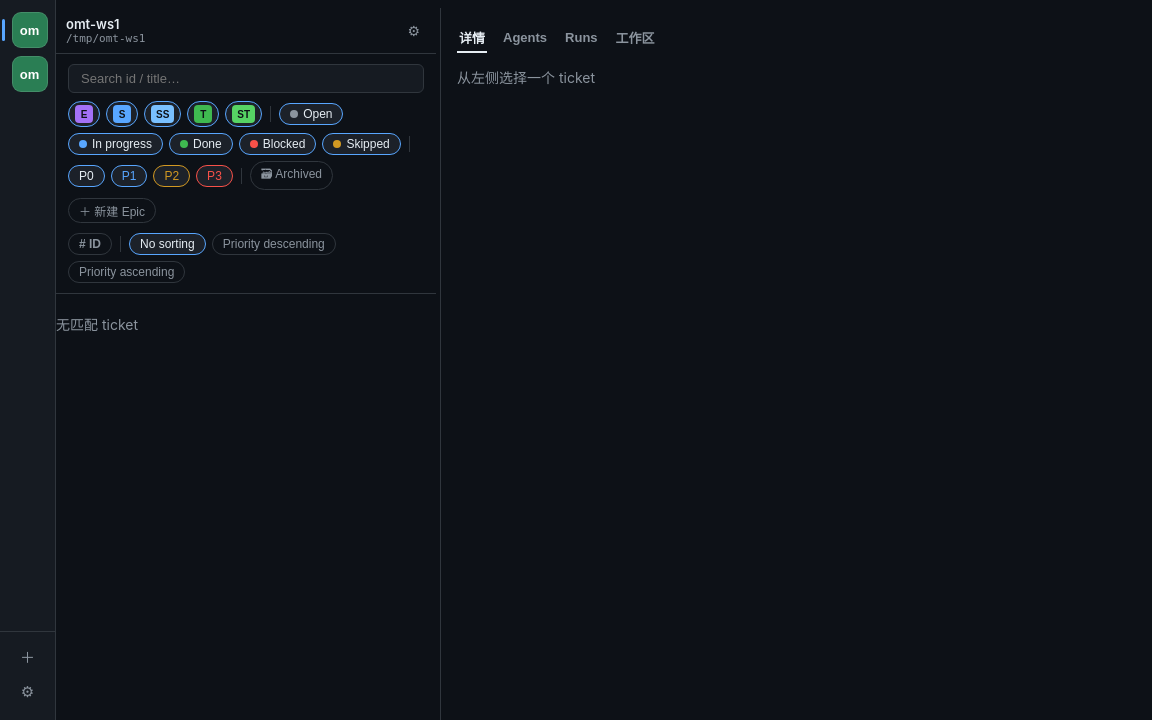
Test case: §49 lease-notice-switch-home：「前往 Runs」先切 home（App 级） › 通知跨 home 保留；按钮切回所属 home 并打开 Runs（旧实现只开当前 home 的 Runs）
Click the button "Agents" at (525, 38), box [501,24,549,53]
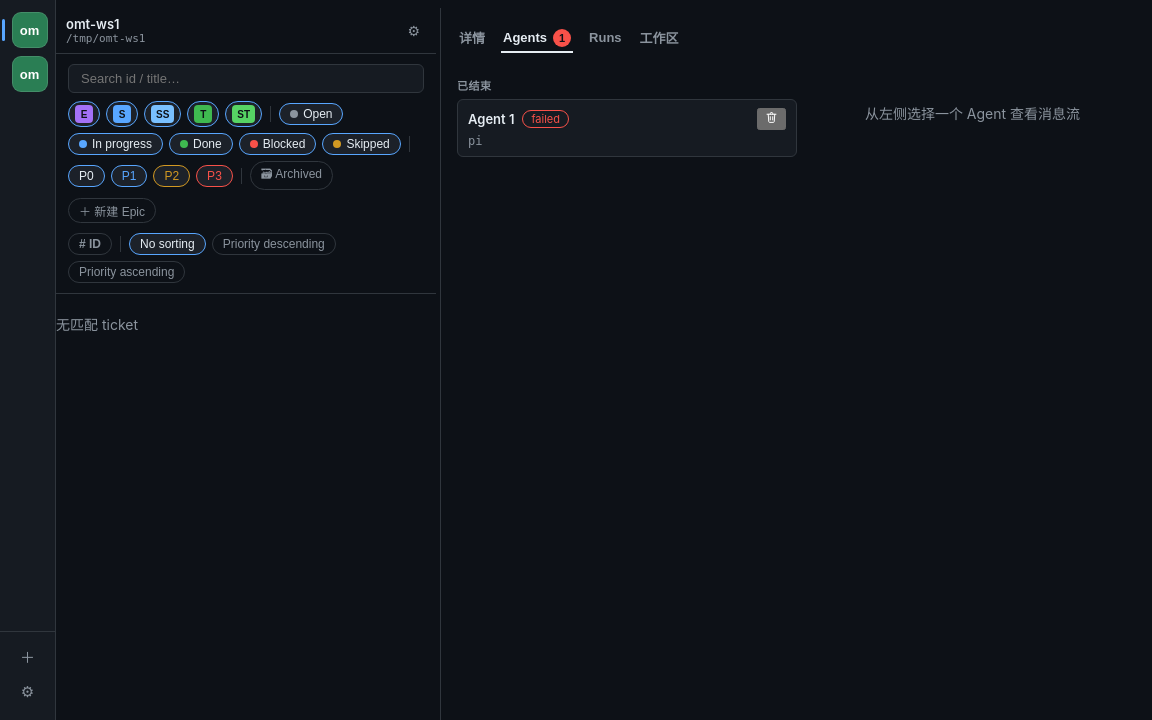
Click the button named "删除 Agent 1" at (772, 119), box [757,108,786,130]
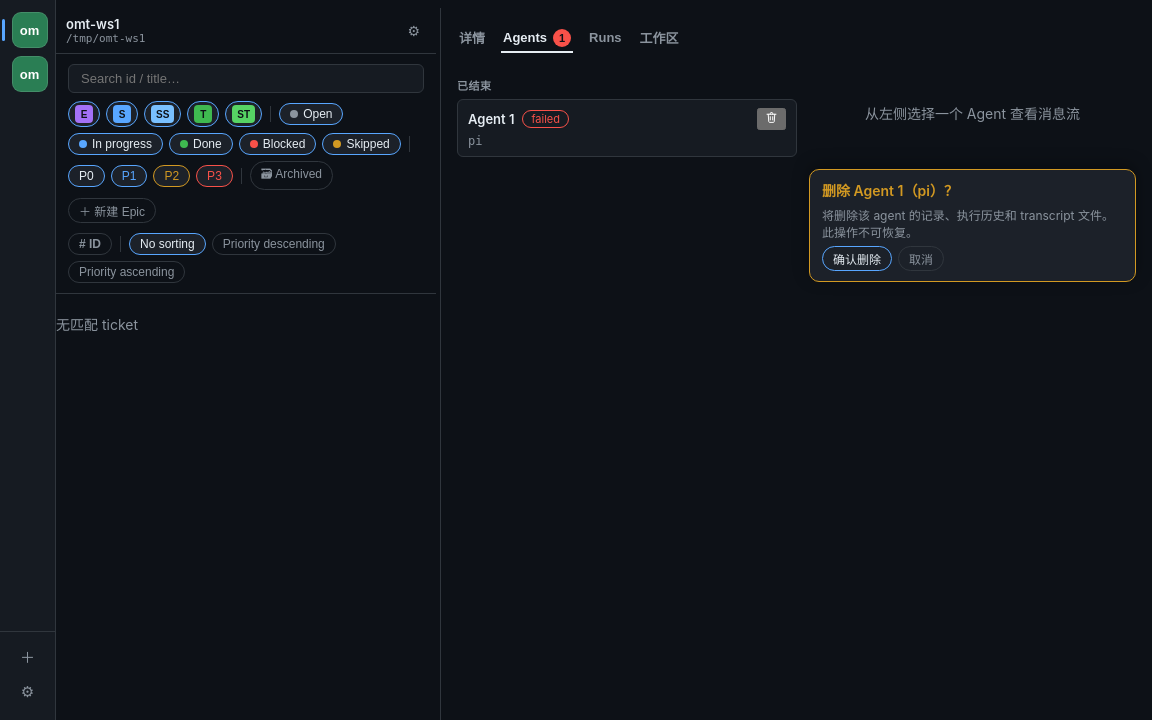
Click the button "确认删除" at (857, 258), box [822,246,892,271]
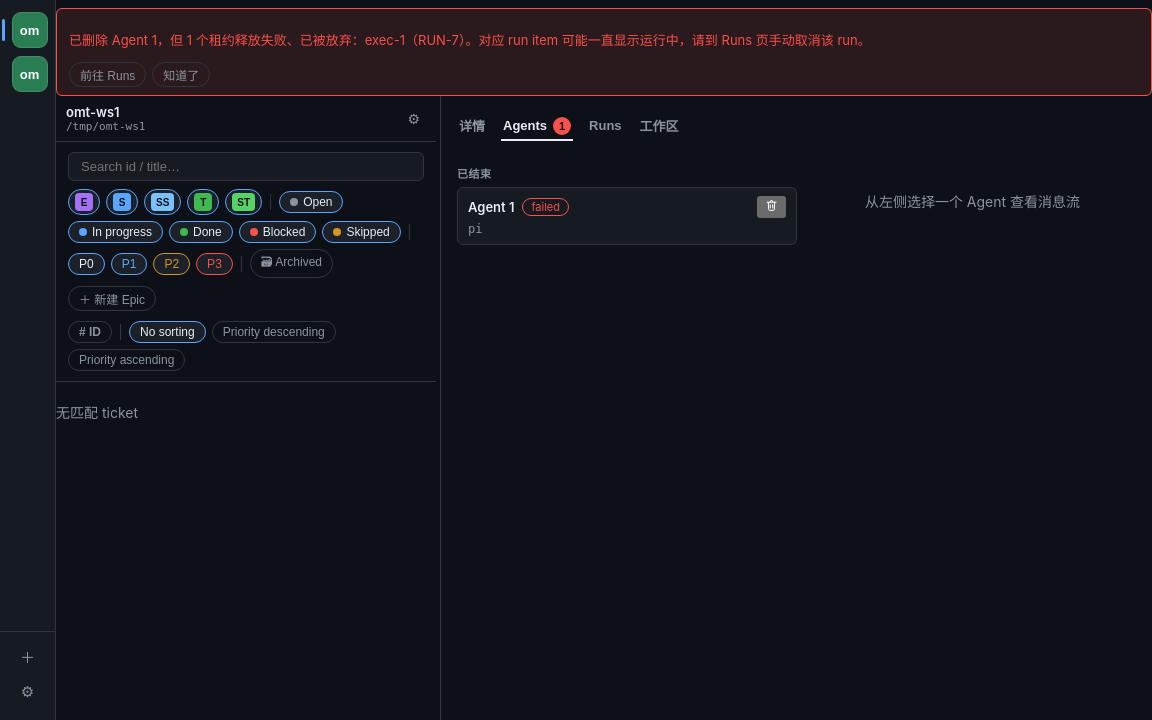
Result: the text "租约释放失败" is shown at [69,32,871,48]
Click the 2nd button titled "omt-ws2（/tmp）" at (30, 74), box [12,56,48,92]
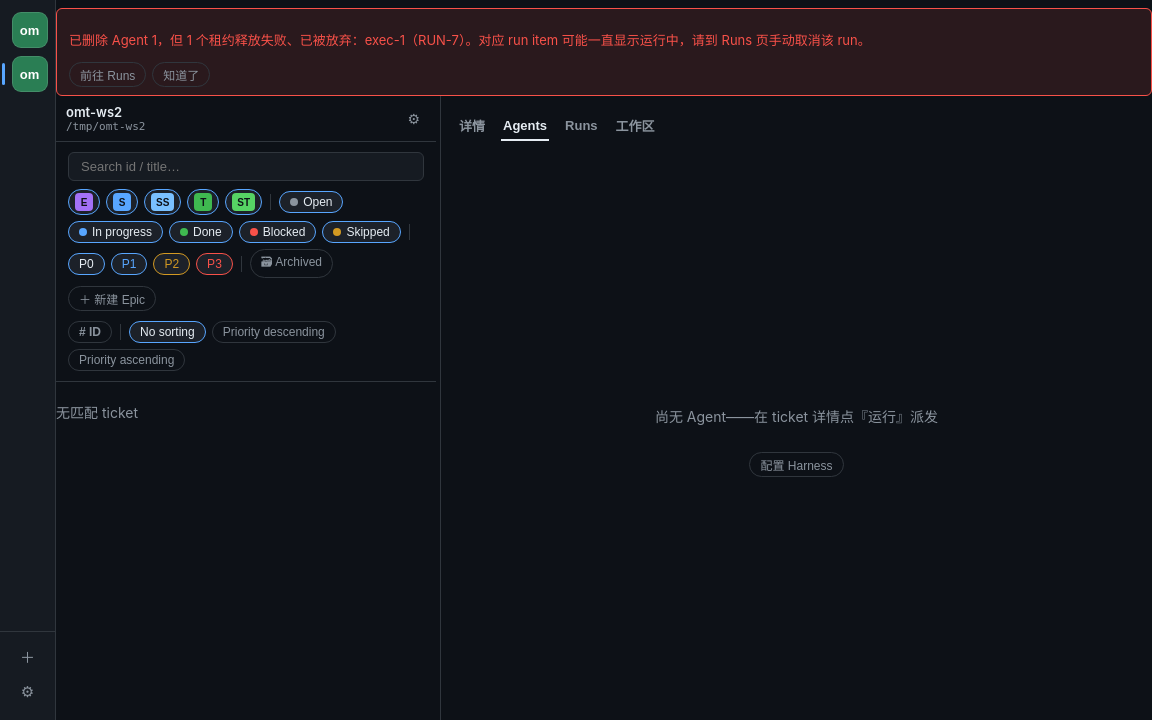
Result: the text "租约释放失败" is shown at [69,32,871,48]
Result: the text with class "workspace-name" reads "omt-ws2" at [66,104,122,120]
Note: 「前往 Runs」：先切回 h_a 再打开 Runs——标题回到 ws1，Runs 视图渲染
Click the button "前往 Runs" at (108, 74), box [69,62,146,87]
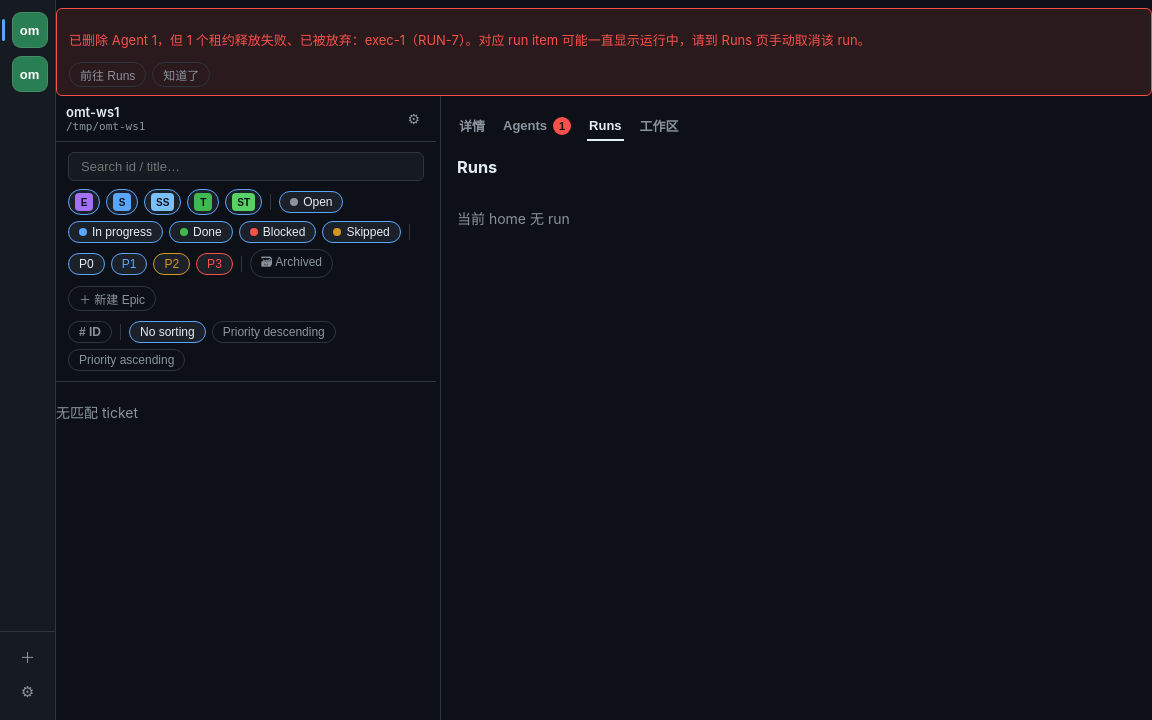
Result: the text with class "workspace-name" reads "omt-ws1" at [66,104,120,120]
Result: the text "当前 home 无 run" is shown at [457,210,570,227]
